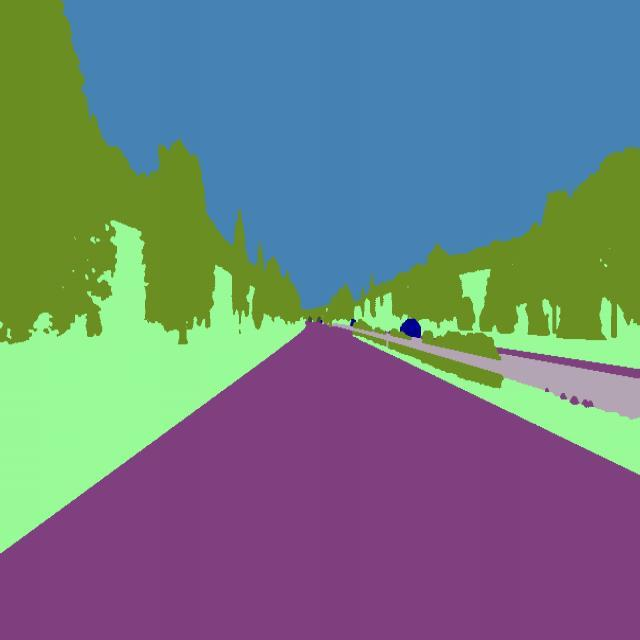safe: (395, 312, 425, 340)
